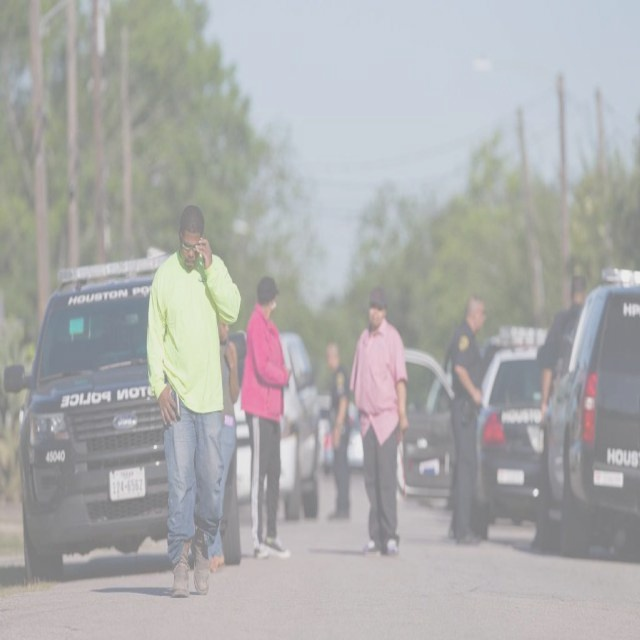pessoa: (142, 199, 242, 599), (346, 282, 408, 560), (237, 266, 294, 564), (538, 273, 590, 555), (446, 286, 488, 551), (202, 316, 242, 574), (322, 336, 352, 524)
